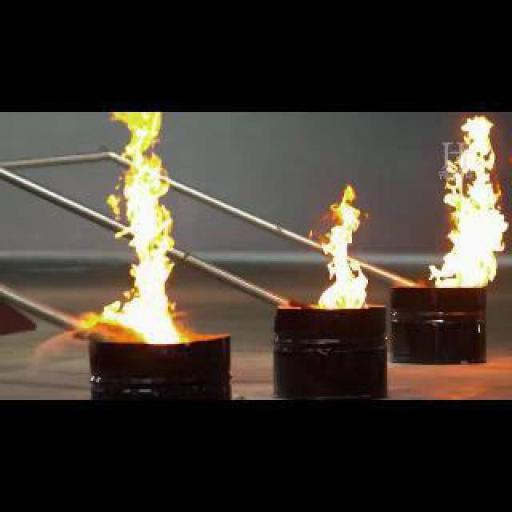smoke: (86, 117, 182, 339), (424, 116, 506, 290), (310, 186, 370, 312)
